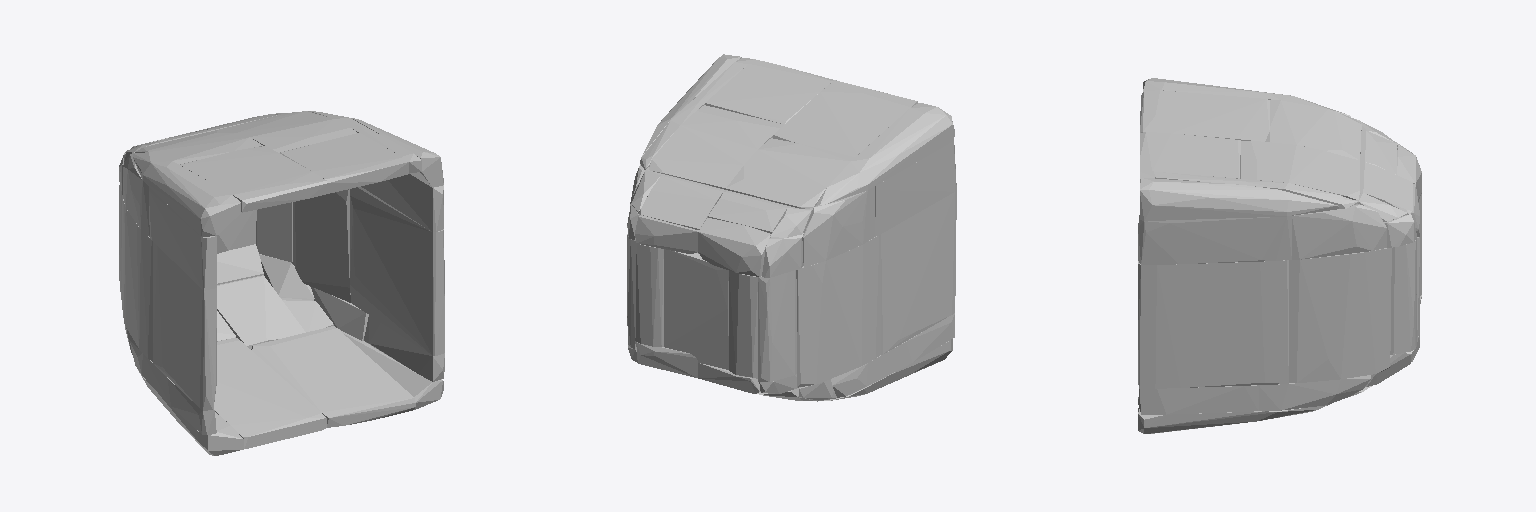
The model's file is model_lGzQi2Pk5uC_vhacd.obj.
3 renders of one model, left to right at view 1: azimuth 30°, elevation 25°; view 2: azimuth 150°, elevation 25°; view 3: azimuth 270°, elevation 25°, orthographic.
Visible parts, largest first — view 1: convex_13, convex_10, convex_5, convex_3, convex_9, convex_12, convex_0, convex_15, convex_28, convex_4, convex_7, convex_14 (+15 smaller); view 2: convex_4, convex_5, convex_39, convex_14, convex_9, convex_0, convex_8, convex_15, convex_7, convex_23, convex_6, convex_38 (+16 smaller); view 3: convex_13, convex_12, convex_17, convex_19, convex_9, convex_14, convex_16, convex_15, convex_8, convex_30, convex_33, convex_29 (+9 smaller).
Boxes of the visible parts, x1=… form: convex_13: x1=350, y1=187, x2=444, y2=355; convex_10: x1=251, y1=326, x2=415, y2=427; convex_5: x1=153, y1=242, x2=216, y2=410; convex_3: x1=214, y1=337, x2=326, y2=448; convex_9: x1=180, y1=146, x2=327, y2=212; convex_12: x1=292, y1=189, x2=350, y2=302; convex_0: x1=133, y1=152, x2=240, y2=236; convex_15: x1=280, y1=133, x2=408, y2=193; convex_28: x1=217, y1=275, x2=305, y2=348; convex_4: x1=122, y1=195, x2=152, y2=361; convex_7: x1=149, y1=187, x2=216, y2=290; convex_14: x1=219, y1=111, x2=356, y2=152; convex_4: x1=796, y1=235, x2=880, y2=387; convex_5: x1=881, y1=191, x2=956, y2=354; convex_39: x1=664, y1=249, x2=728, y2=369; convex_14: x1=649, y1=105, x2=783, y2=189; convex_9: x1=773, y1=80, x2=917, y2=156; convex_0: x1=816, y1=103, x2=954, y2=205; convex_8: x1=726, y1=138, x2=854, y2=208; convex_15: x1=705, y1=59, x2=833, y2=124; convex_7: x1=875, y1=141, x2=956, y2=236; convex_23: x1=758, y1=270, x2=796, y2=381; convex_6: x1=802, y1=187, x2=874, y2=267; convex_38: x1=698, y1=218, x2=770, y2=276; convex_13: x1=1138, y1=260, x2=1288, y2=388; convex_12: x1=1289, y1=248, x2=1391, y2=382; convex_17: x1=1138, y1=215, x2=1291, y2=264; convex_19: x1=1140, y1=178, x2=1338, y2=220; convex_9: x1=1140, y1=90, x2=1269, y2=141; convex_14: x1=1241, y1=141, x2=1359, y2=199; convex_16: x1=1292, y1=204, x2=1386, y2=259; convex_15: x1=1140, y1=132, x2=1240, y2=178; convex_8: x1=1270, y1=100, x2=1361, y2=159; convex_30: x1=1138, y1=385, x2=1258, y2=414; convex_33: x1=1390, y1=240, x2=1416, y2=354; convex_29: x1=1259, y1=375, x2=1370, y2=410.
Bounding box in the file's own units: 0.0887 × 0.0882 × 0.0907.